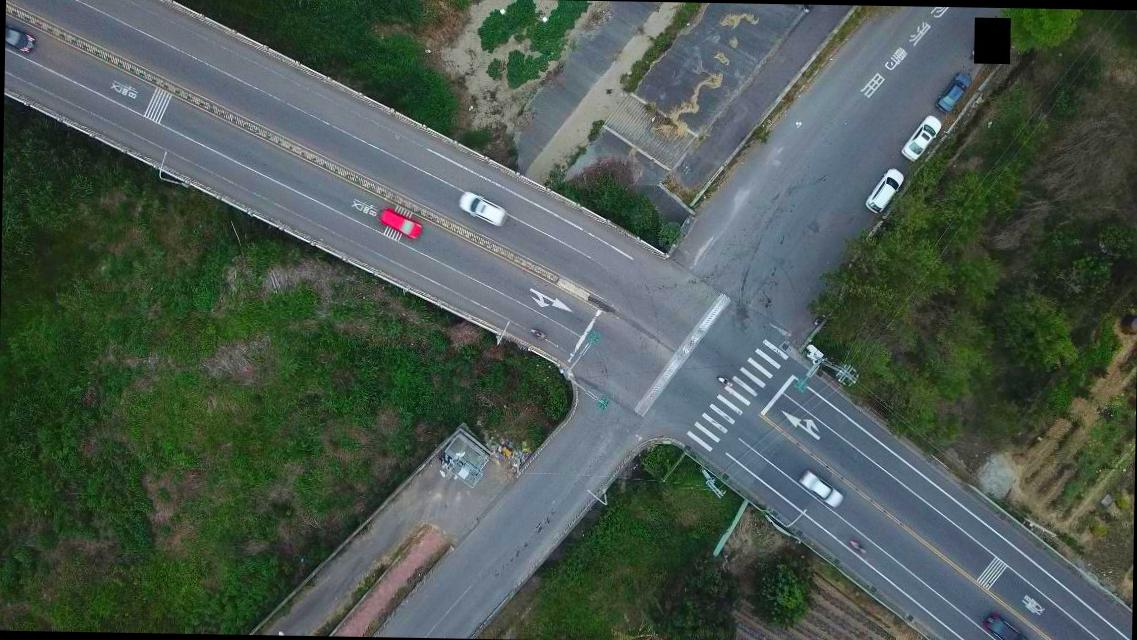vehicle: (900, 114, 944, 162), (456, 191, 510, 228), (864, 166, 905, 214), (795, 467, 844, 507), (936, 69, 974, 114), (376, 206, 423, 242), (981, 611, 1033, 639), (4, 23, 36, 59)
